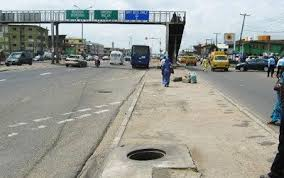Manhole-Open: (121, 143, 180, 169)
car: (5, 49, 36, 69), (236, 57, 275, 72), (63, 54, 88, 69), (212, 54, 229, 73), (101, 54, 109, 60)
human: (162, 58, 172, 86), (268, 55, 276, 77)
